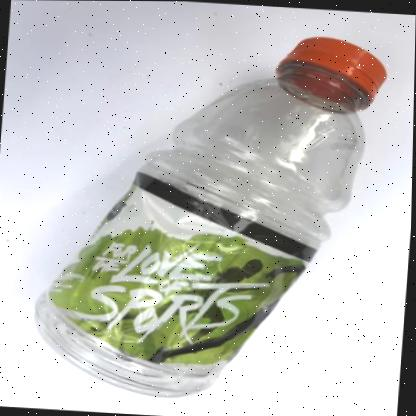Plastic: (35, 34, 387, 396)
